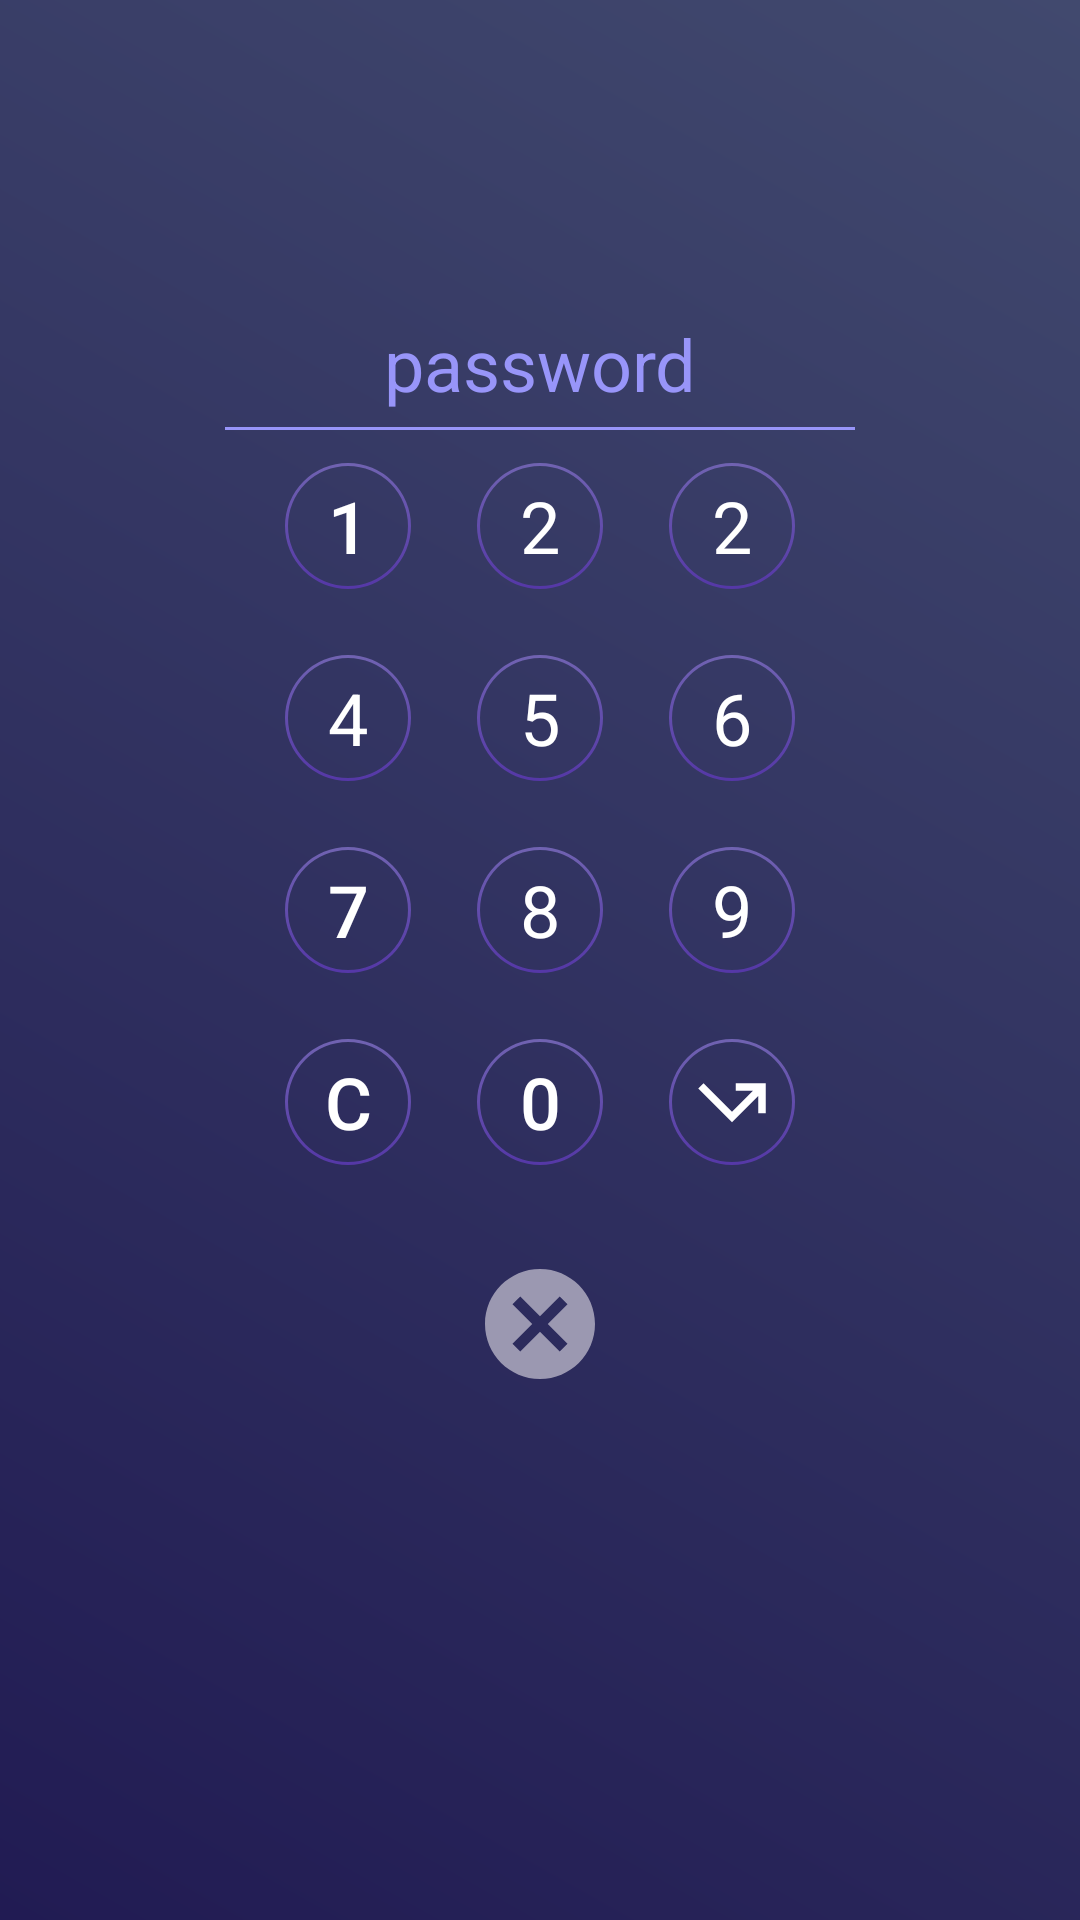

Named icons in this screenshot (1080 x 1920) and their bounding boxes, (x1, y1, x2, y2):
cancel: (485, 1269, 595, 1379)
